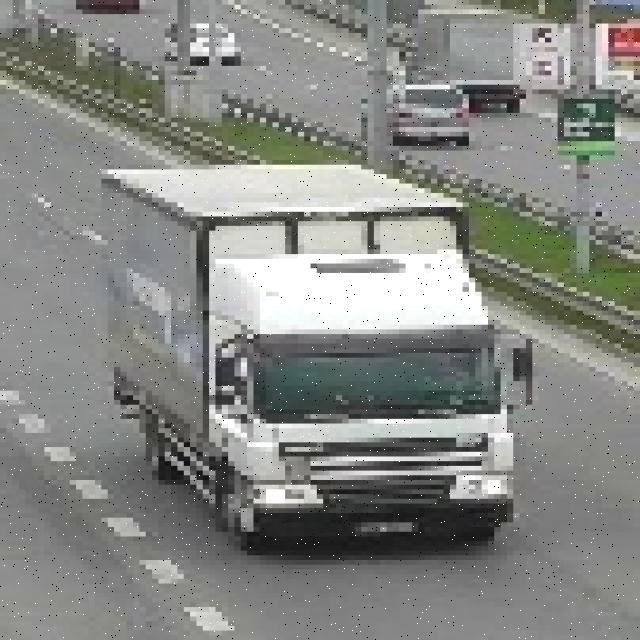truck: (107, 160, 538, 551)
